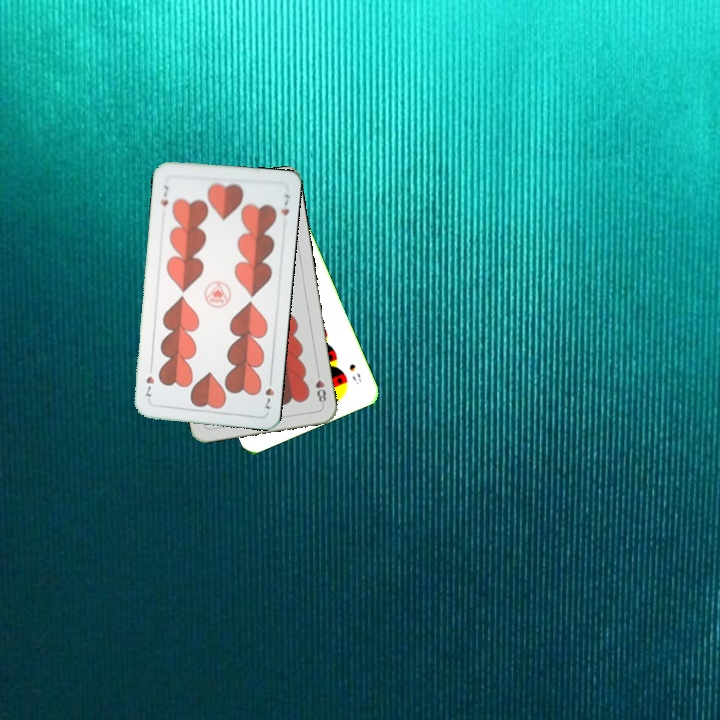H7: (261, 373, 276, 412), (157, 182, 171, 209)
H8: (311, 367, 329, 407)
S8: (345, 360, 363, 387)
